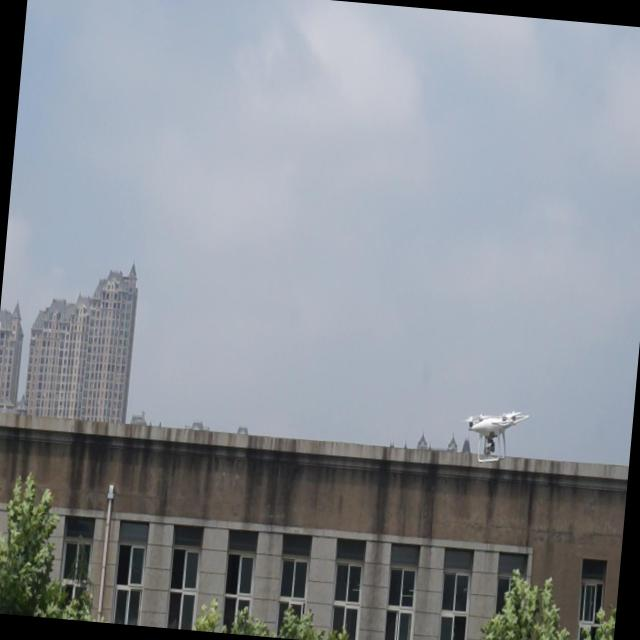drone: (452, 398, 529, 471)
